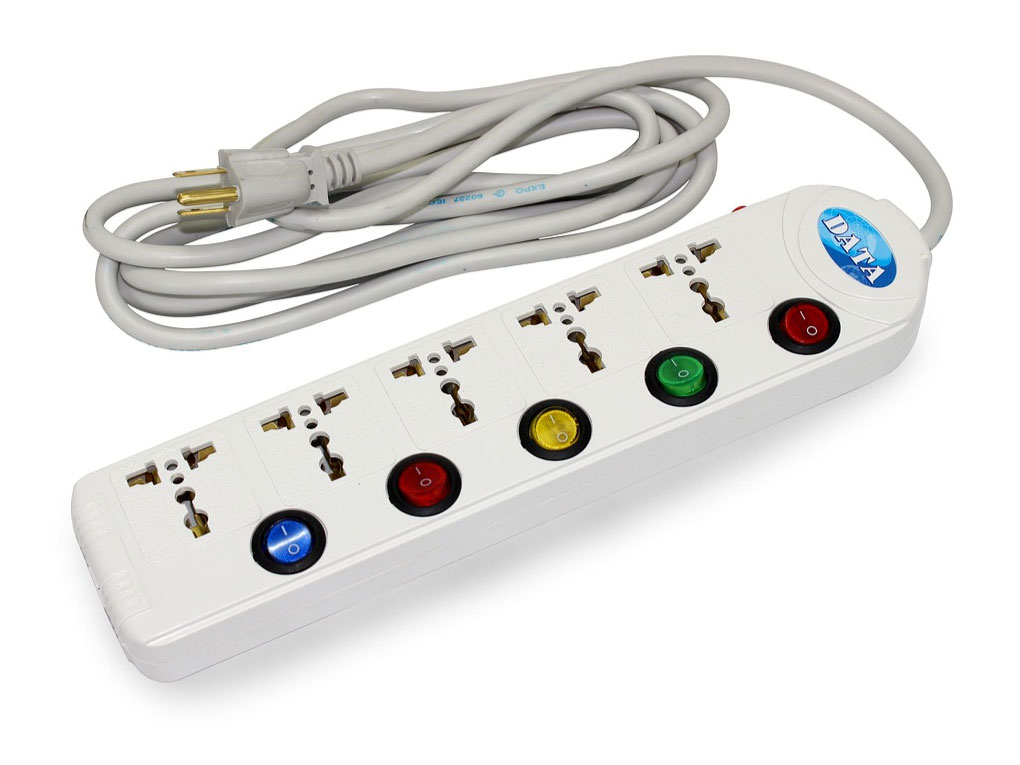Three_eye_plug: (42, 178, 952, 698)
